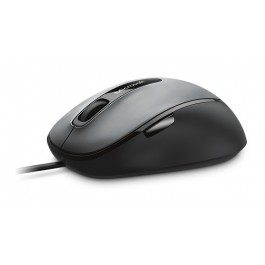Mouse: (44, 72, 249, 178)
